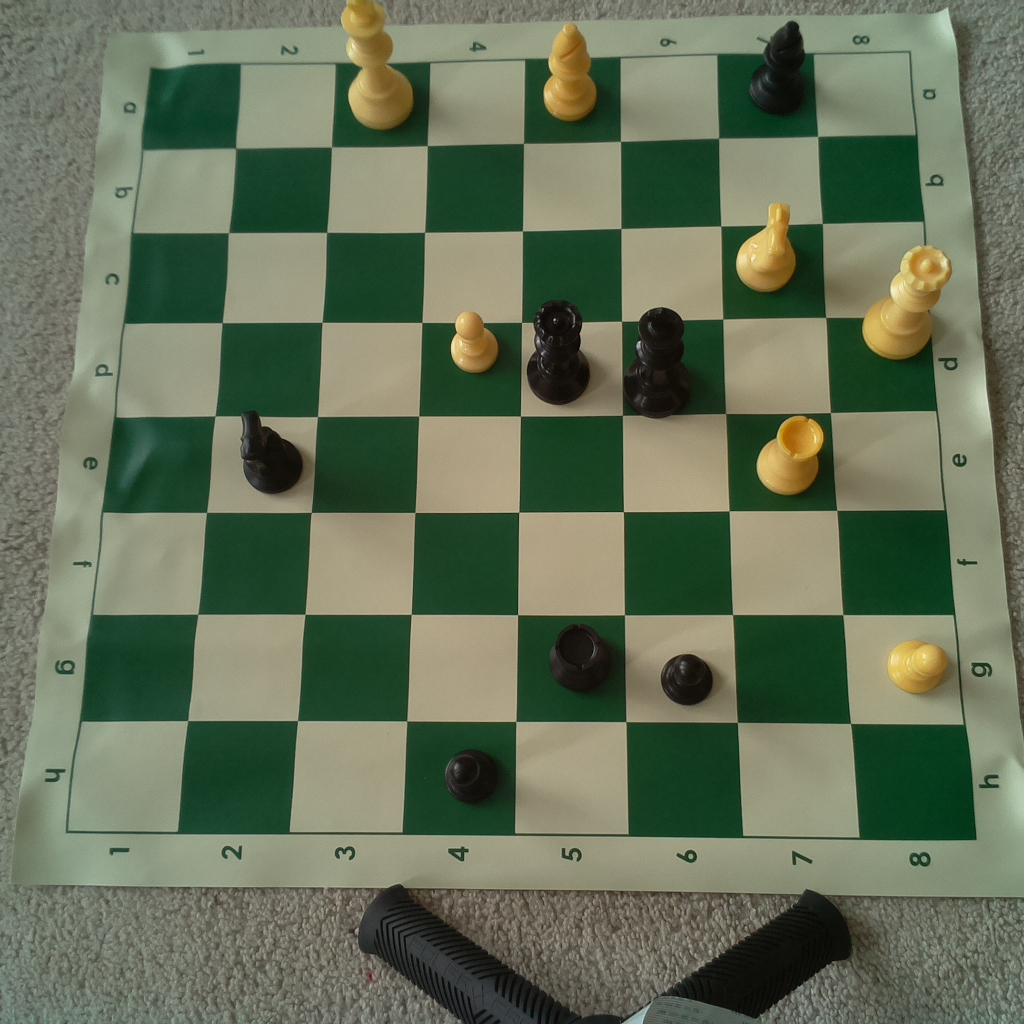black_bishop: (741, 14, 811, 115)
black_king: (620, 302, 698, 421)
black_knight: (229, 409, 305, 497)
black_pawn: (440, 745, 508, 805), (657, 643, 715, 709)
black_queen: (523, 297, 592, 408)
black_rook: (537, 618, 618, 701)
file_a: (142, 53, 919, 151)
file_b: (134, 136, 927, 232)
file_c: (123, 219, 933, 323)
file_d: (115, 317, 941, 419)
file_e: (101, 410, 946, 509)
file_f: (90, 508, 955, 614)
file_g: (80, 615, 967, 726)
file_h: (67, 722, 980, 843)
outline: (67, 52, 979, 841)
rank_1: (68, 58, 244, 832)
rank_2: (177, 64, 337, 836)
rank_3: (289, 61, 433, 836)
rank_4: (402, 61, 528, 836)
rank_5: (514, 60, 631, 835)
rank_6: (618, 57, 746, 838)
rank_7: (719, 54, 859, 838)
rank_8: (814, 54, 980, 840)
white_bishop: (537, 18, 605, 127)
white_king: (324, 1, 416, 128)
white_knight: (732, 197, 801, 292)
white_pawn: (884, 627, 954, 701), (447, 308, 502, 377)
white_queen: (858, 239, 955, 369)
white_rook: (749, 413, 831, 500)
